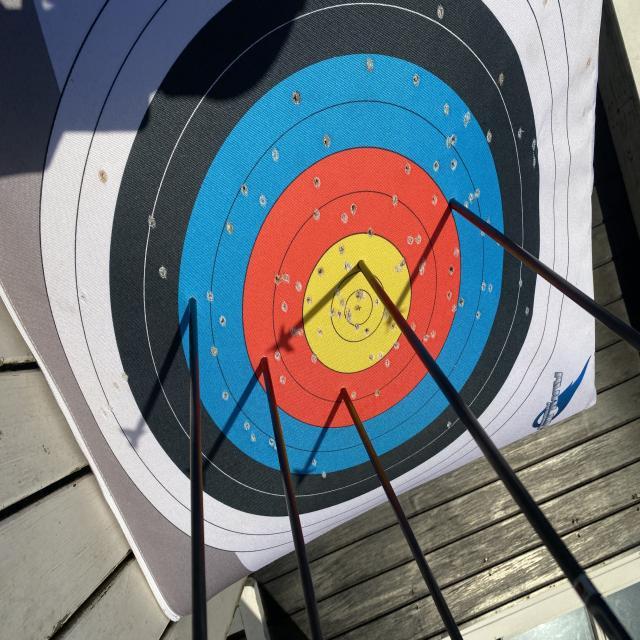Arrow_Blue: (177, 288, 210, 325), (444, 191, 464, 220)
Arrow_Red: (248, 344, 282, 382), (333, 376, 357, 412)
Arrow_Yellow: (349, 254, 369, 288)
